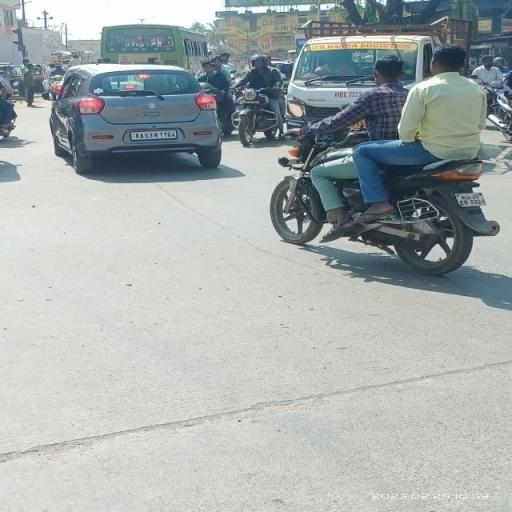bike: (268, 44, 506, 281)
numberplate: (454, 188, 490, 210)
withouthelmet: (432, 46, 466, 73), (376, 58, 404, 80)
